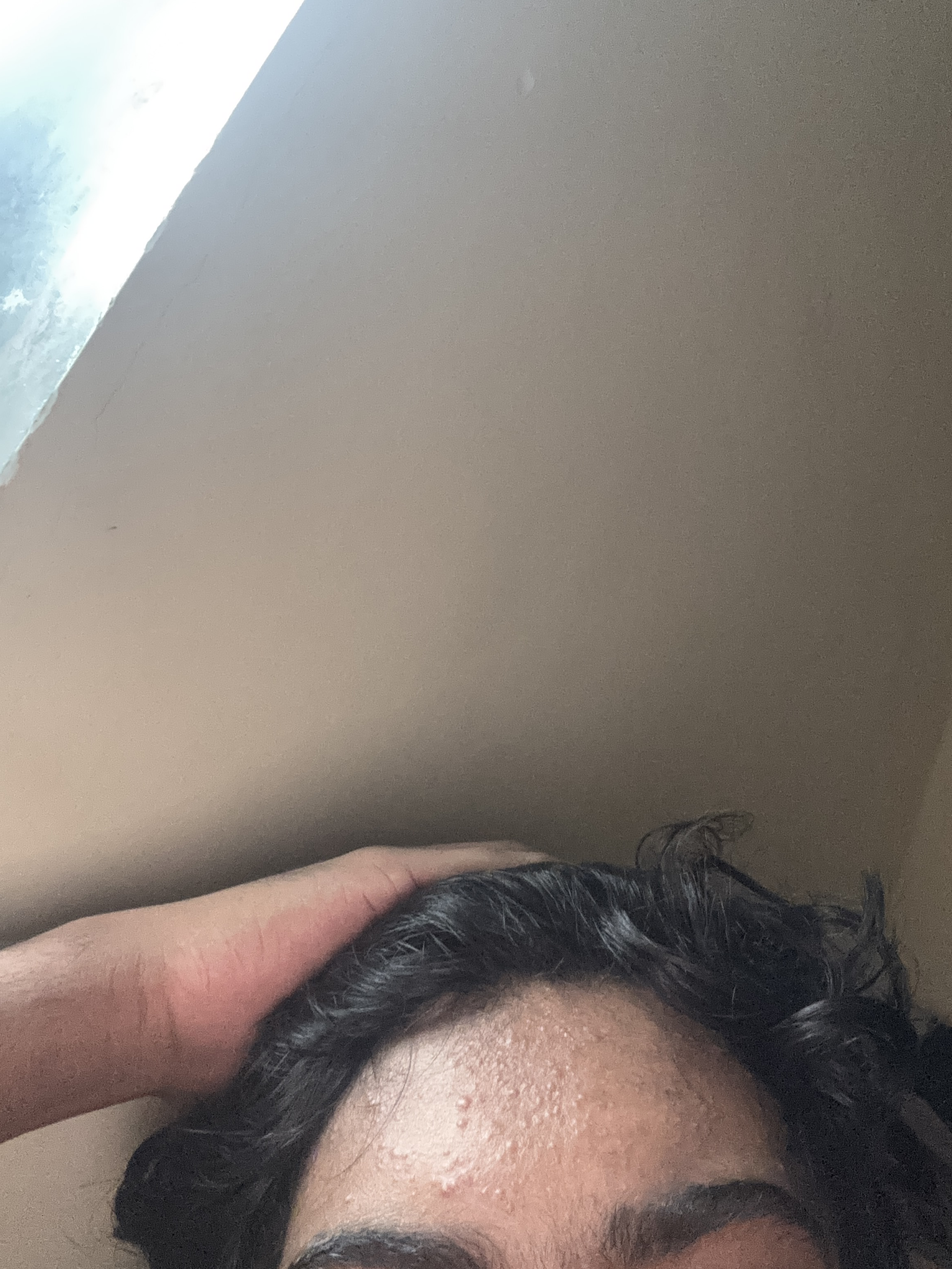closed_comedone: (457, 1044, 502, 1089)
nodule: (438, 1178, 460, 1197), (455, 1096, 472, 1113), (507, 1140, 520, 1152), (455, 1118, 468, 1128)
pustule: (560, 1026, 579, 1047), (536, 1025, 546, 1031)
